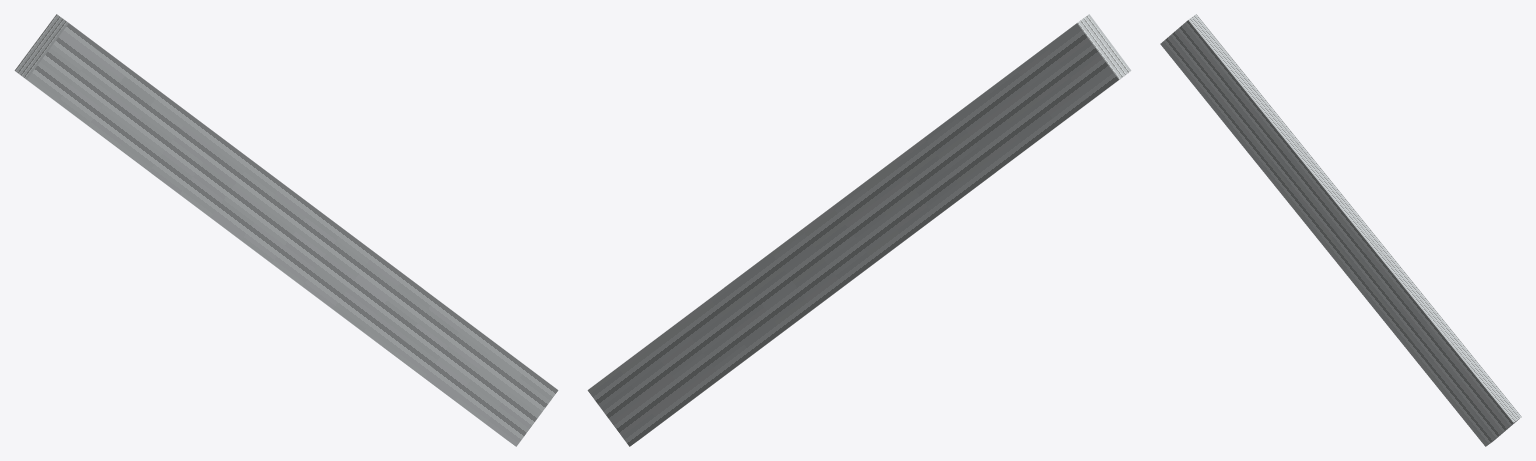
The model's file is aluminium_leaf_1_strut_b.obj.
3 renders of one model, left to right at view 1: azimuth 30°, elevation 25°; view 2: azimuth 150°, elevation 25°; view 3: azimuth 330°, elevation 25°, orthographic. The views are drawn at different scales.
Parts seen in each view (by area): view 1: aluminium_leaf_1_strut_b; view 2: aluminium_leaf_1_strut_b; view 3: aluminium_leaf_1_strut_b.
Boxes of the visible parts, x1,y1,x2,y2 form: aluminium_leaf_1_strut_b: [14, 14, 558, 446]; aluminium_leaf_1_strut_b: [587, 14, 1131, 446]; aluminium_leaf_1_strut_b: [1160, 14, 1521, 446].
Size of the model in its own units: 0.543 by 0.5203 by 0.0219.
